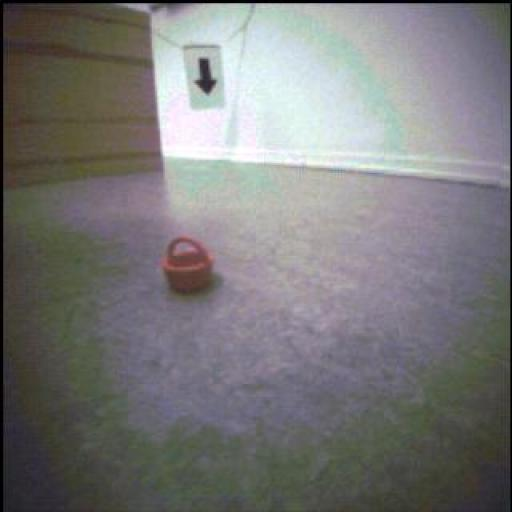Arrow: (196, 59, 217, 96)
Bucket: (163, 238, 214, 294)
